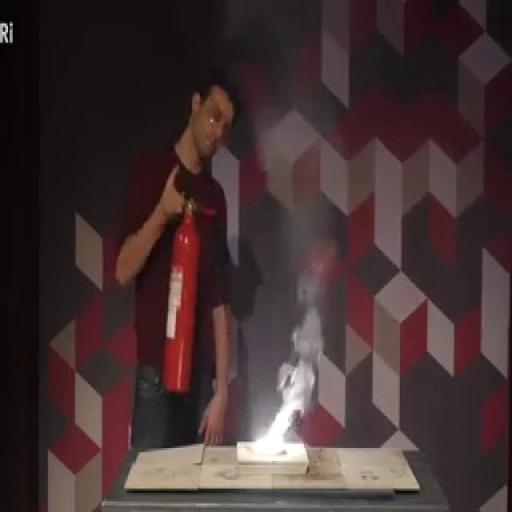smoke: (244, 362, 310, 464)
